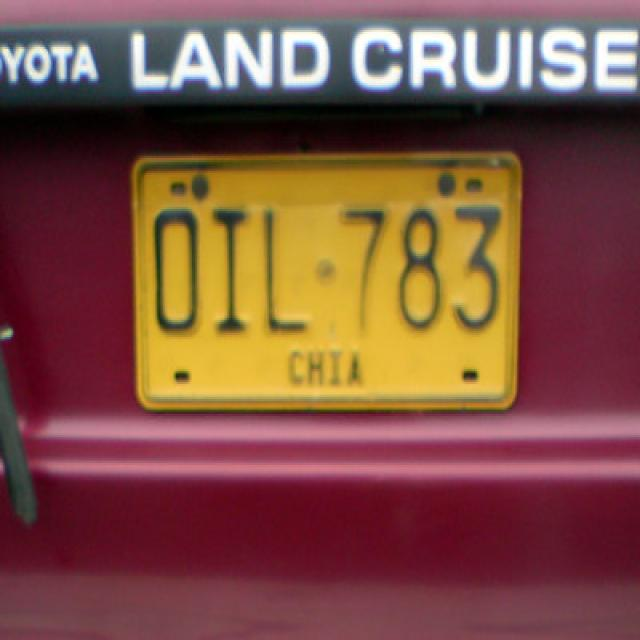placa_carro: (101, 125, 552, 443)
